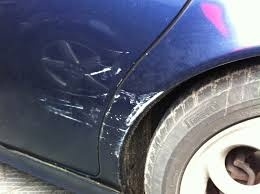Scratch: (39, 82, 166, 144)
